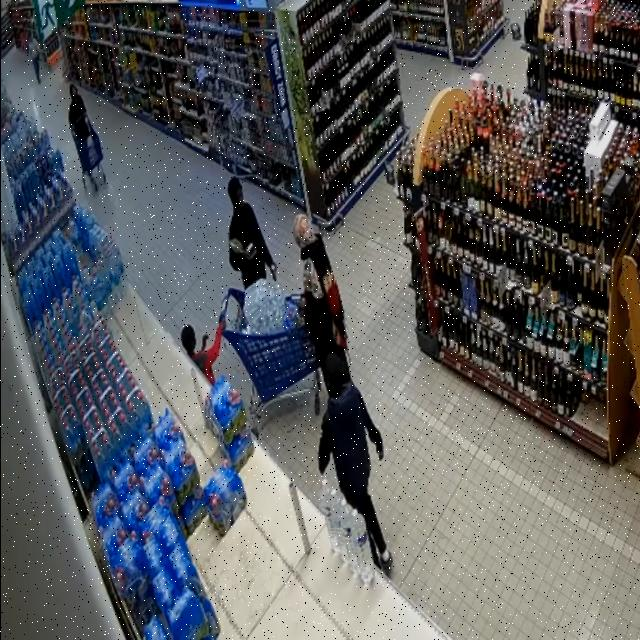article: (228, 238, 245, 254), (271, 264, 277, 280)
hands: (202, 335, 209, 350), (378, 448, 384, 461), (219, 319, 226, 330), (269, 263, 278, 270), (71, 124, 76, 131), (82, 112, 88, 117)
person: (319, 354, 392, 573), (294, 214, 346, 382), (228, 177, 276, 289), (181, 323, 224, 384), (68, 84, 91, 142)
